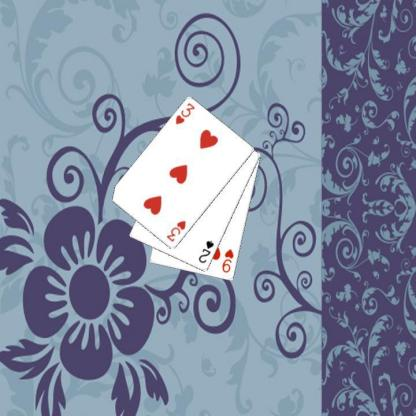2S: (196, 238, 215, 265)
3H: (173, 100, 196, 126), (164, 219, 187, 244)
9H: (220, 247, 235, 274)
